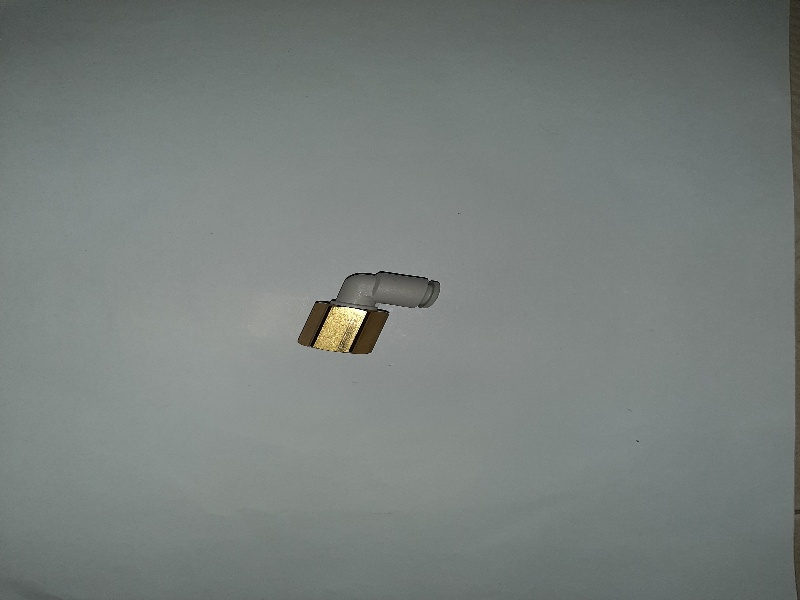Connector: (301, 258, 460, 367)
